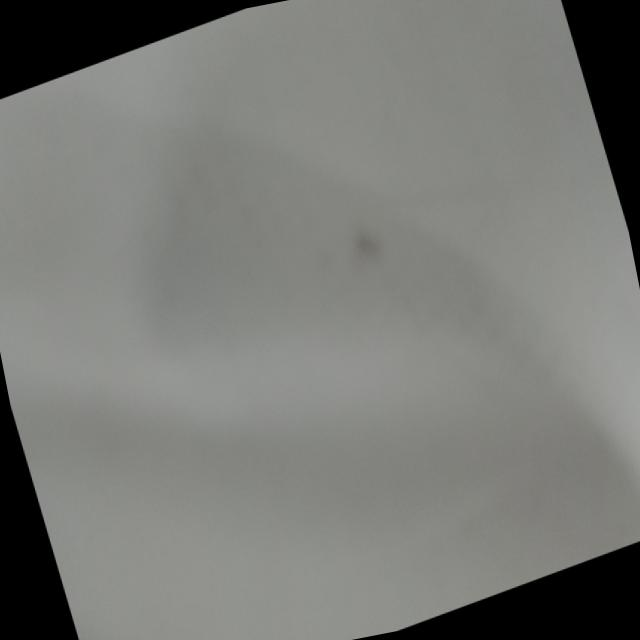stain: (328, 206, 404, 292)
